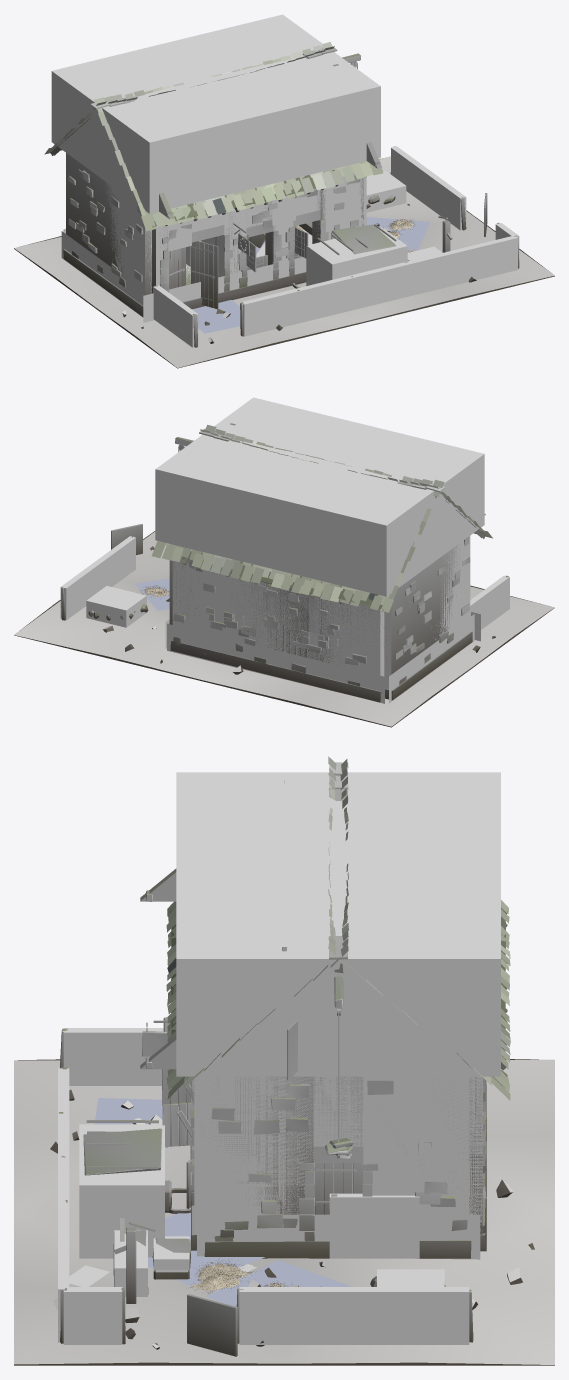
The model's file is bld_stable_shared.glb.
3 renders of one model, top to bottom at view 1: azimuth 30°, elevation 25°; view 2: azimuth 150°, elevation 25°; view 3: azimuth 270°, elevation 25°, orthographic. The views are drawn at different scales.
Visible parts, largest first — view 1: col_roof, ground_mud, col_fence.002, decals_stable, roof_main_shingles, wall_S_stones, wall_W, col_coach, col_fence, col_wall_W_0, wall_W_stones, wall_S (+11 smaller); view 2: col_roof, ground_mud, col_wall_N_0, decals_stable, roof_main_shingles, wall_N_stones, wall_W, wall_N, col_fence, col_wall_W_0, wall_W_stones, col_dung (+3 smaller); view 3: col_roof, ground_mud, col_fence, col_wall_E_2, col_wall_E_0, decals_stable, wall_E_stones, wall_E, col_coach, col_stall_4, roof_main_shingles, col_fence.003 (+22 smaller).
Boxes of the visible parts, box(x1,y1,x2,y2) form: col_roof: box(51, 14, 380, 213); ground_mud: box(14, 156, 554, 368); col_fence.002: box(241, 235, 517, 336); decals_stable: box(61, 176, 429, 333); roof_main_shingles: box(44, 42, 383, 231); wall_S_stones: box(160, 175, 360, 309); wall_W: box(66, 153, 151, 294); col_coach: box(306, 227, 407, 285); col_fence: box(391, 146, 466, 230); col_wall_W_0: box(105, 182, 151, 291); wall_W_stones: box(63, 169, 143, 316); wall_S: box(152, 178, 363, 293); col_roof: box(155, 397, 484, 596); ground_mud: box(14, 531, 554, 727); col_wall_N_0: box(172, 556, 384, 676); decals_stable: box(135, 578, 480, 703); roof_main_shingles: box(151, 424, 492, 612); wall_N_stones: box(170, 556, 385, 702); wall_W: box(384, 544, 460, 674); wall_N: box(173, 558, 383, 662); col_fence: box(60, 536, 135, 620); col_wall_W_0: box(384, 536, 470, 689); wall_W_stones: box(385, 536, 472, 700); col_dung: box(86, 586, 146, 627); col_roof: box(176, 772, 500, 1076); ground_mud: box(14, 1059, 554, 1365); col_fence: box(239, 1287, 469, 1344); col_wall_E_2: box(363, 1076, 469, 1214); col_wall_E_0: box(208, 1076, 313, 1214); decals_stable: box(69, 1098, 480, 1306); wall_E_stones: box(204, 1080, 471, 1258); wall_E: box(209, 1076, 469, 1214); col_coach: box(79, 1124, 164, 1258); col_stall_4: box(329, 1193, 419, 1258); roof_main_shingles: box(166, 756, 510, 1100); col_fence.003: box(63, 1028, 163, 1085).
Size of the model in its own units: 16 by 7.85 by 12.
